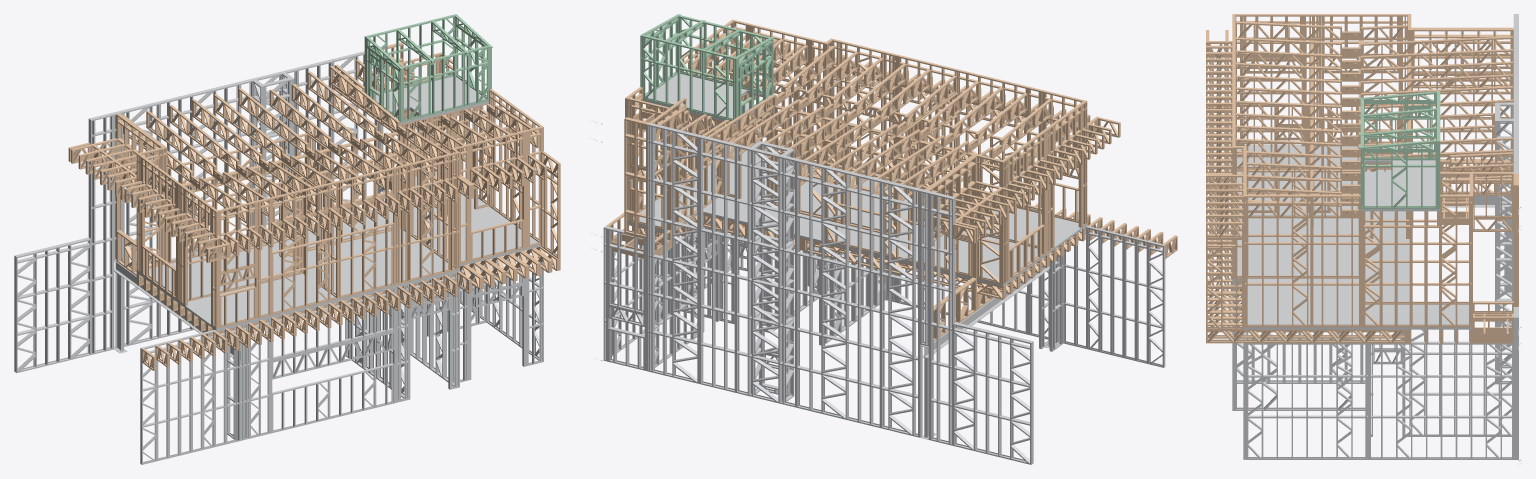
The model's file is projeto1.glb.
3 views of the same model, side by side, from view 1: azimuth 30°, elevation 25°; view 2: azimuth 150°, elevation 25°; view 3: azimuth 270°, elevation 25° (orthographic). The views are drawn at different scales.
Parts seen in each view (by area): view 1: Fake; view 2: Fake; view 3: Fake.
Boxes of the visible parts, <box> form: Fake: <box>14,14,560,464</box>; Fake: <box>590,14,1177,464</box>; Fake: <box>1206,14,1521,464</box>.
Size of what is drawn, in the model's own units: 14.61 by 9.43 by 8.46.
